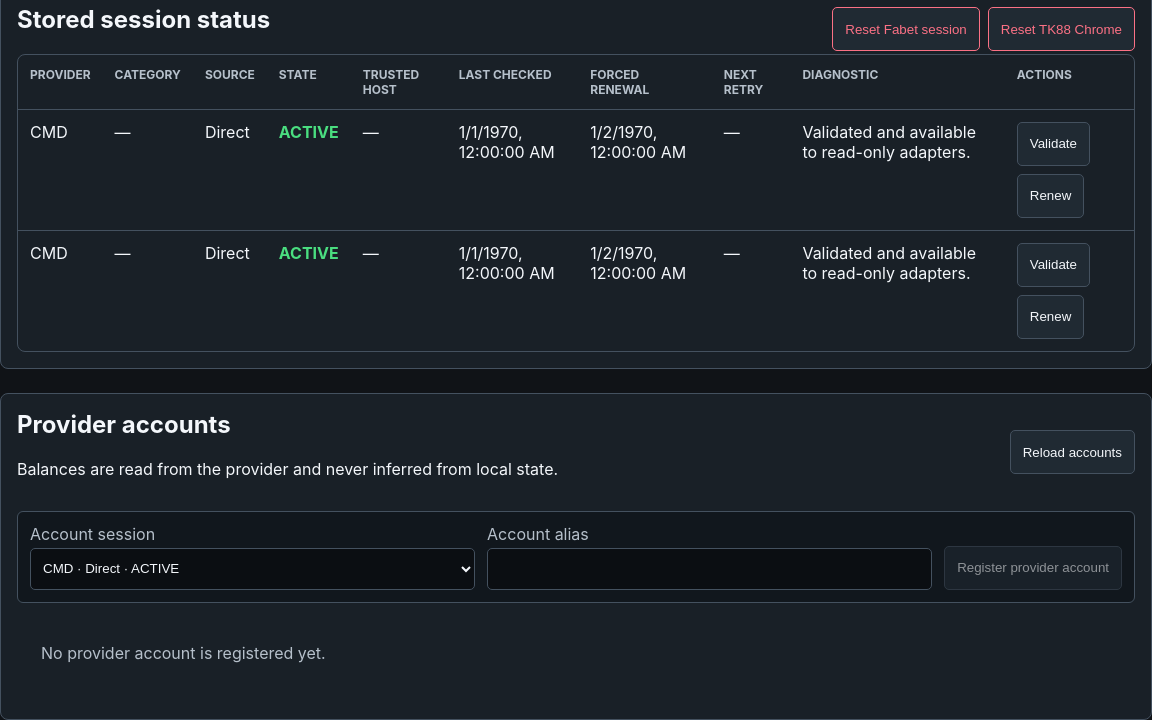
Test: SessionsPage › registers a second verified session as a distinct provider account
(page scrolled)
Select "CMD · Direct · ACTIVE" in the dropdown labelled "Account session" at (253, 569), box [30,548,475,590]
Type "CMD second" into the field labelled "Account alias" at (710, 569), box [487,548,932,590]
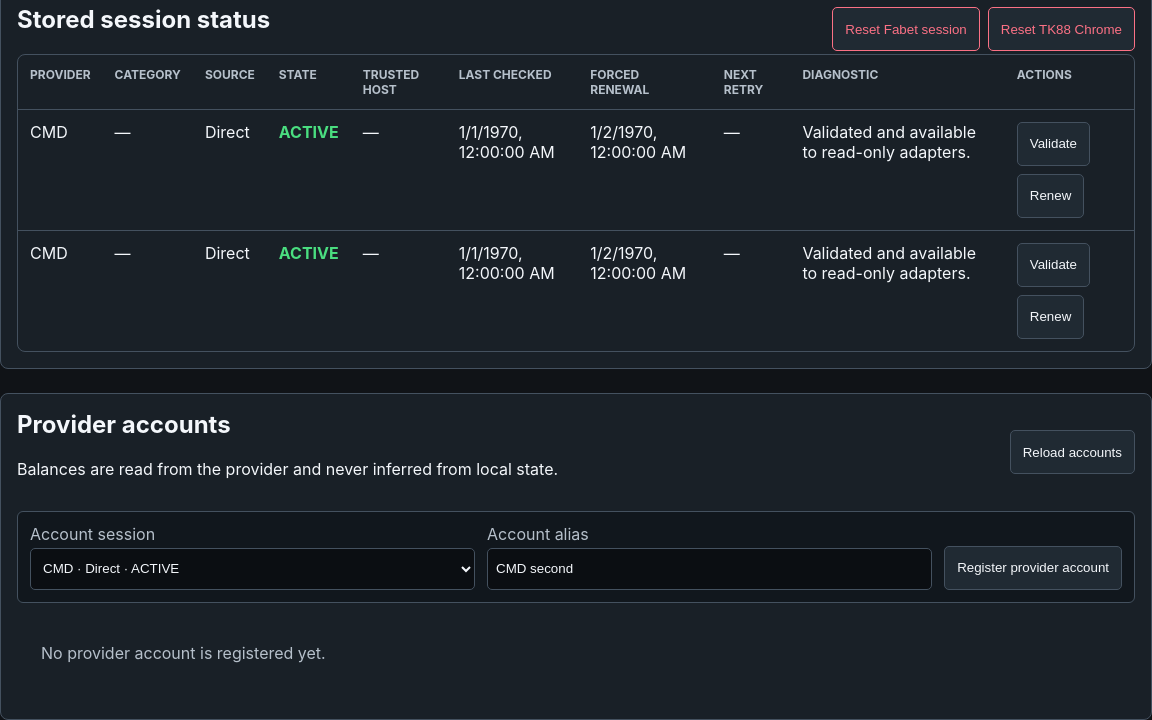
Click the button "Register provider account" at (1033, 568), box [944,546,1122,590]
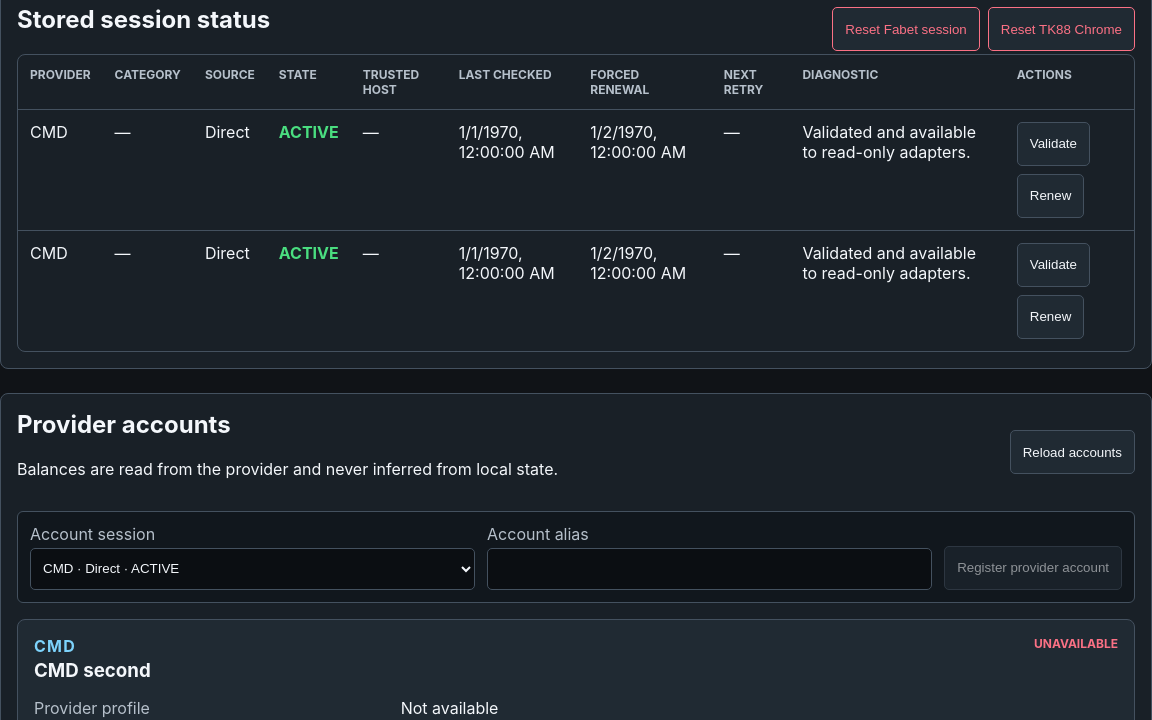
Check: the heading "CMD second" is shown, box [34,659,151,682]
